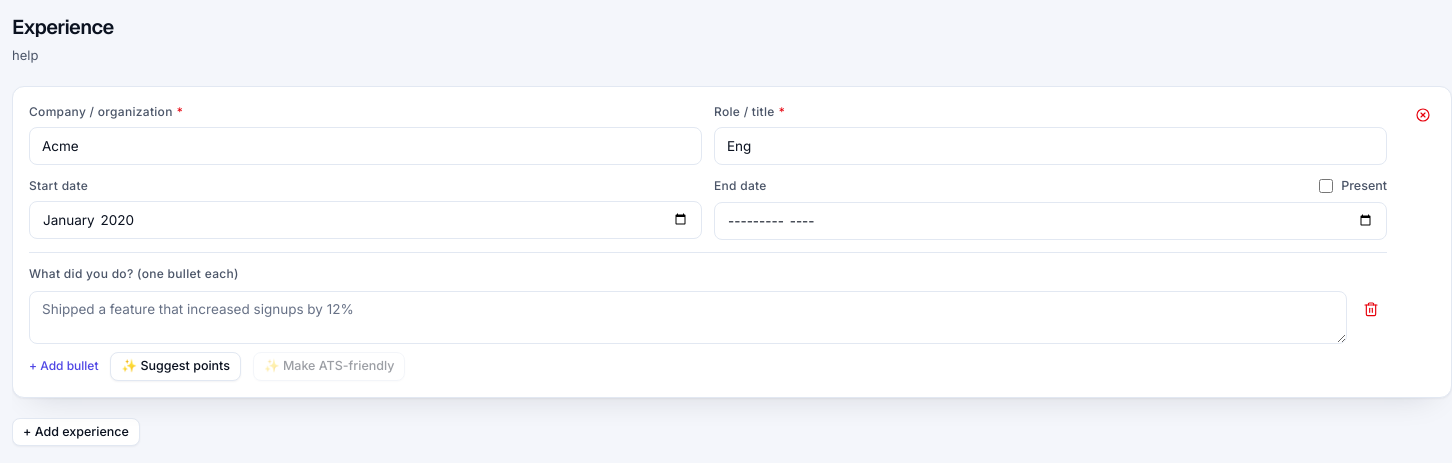
Test: ExperienceForm (experience) › writes Present into the end date and stores a current role when the checkbox is checked
Click the checkbox labelled "Present".
click(1326, 186)  # box [1319,179,1333,193]
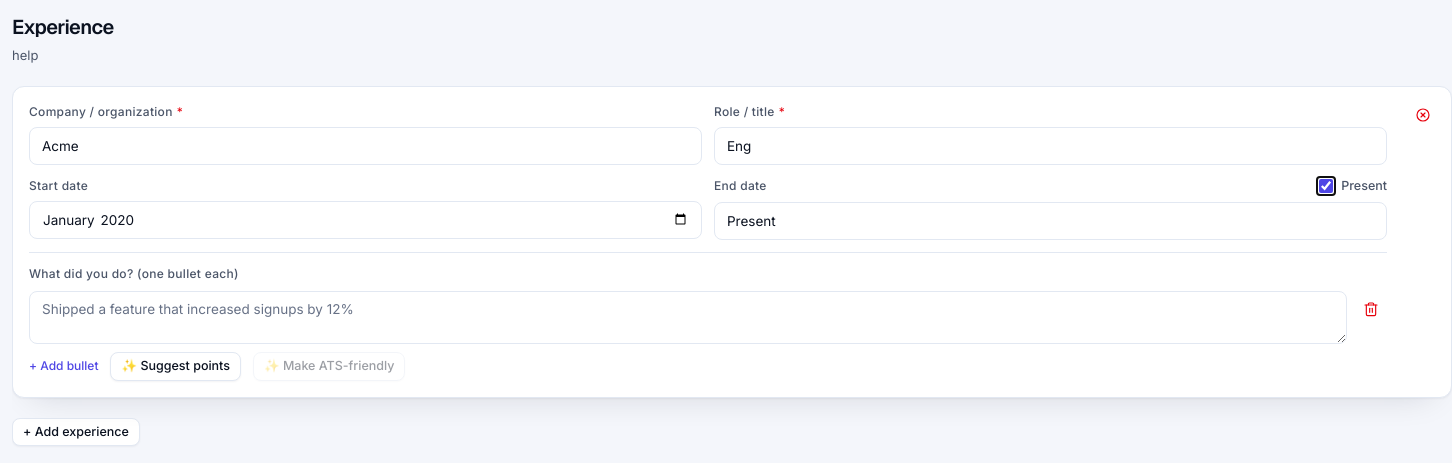
Result: the field labelled "End date" holds "Present" at [714,202,1387,240]
